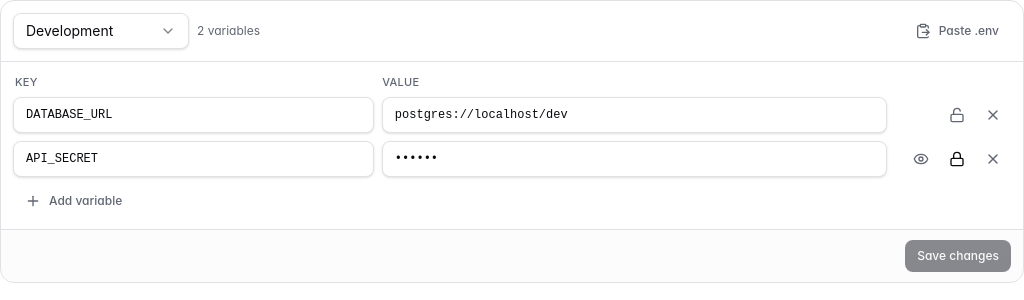
Test: EnvVariablesEditor › masks secret values until revealed
Click the button named "Show value for API_SECRET" at (921, 158), box [903,140,939,176]
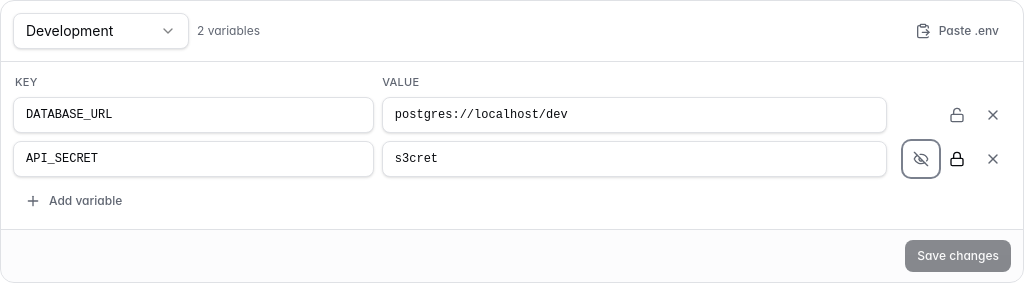
Expected: the field named "Value for API_SECRET" shows its text, [382,140,887,176]
